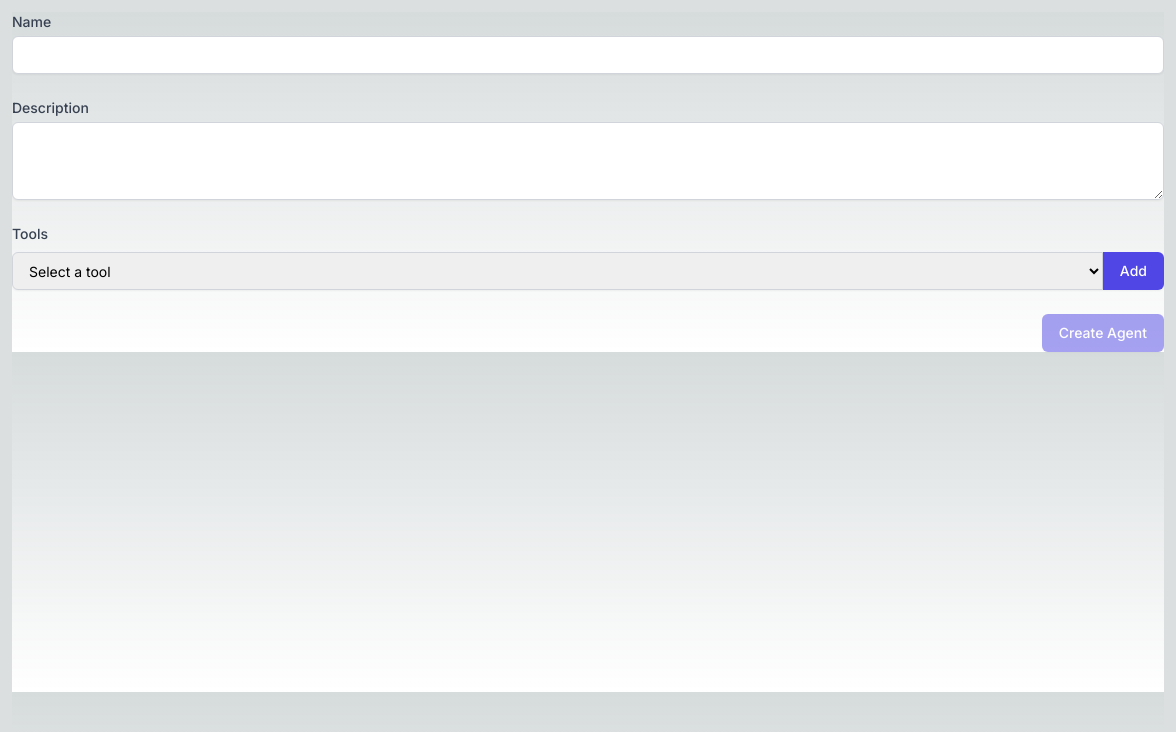
AgentForm › disables submit button when form is invalid
This screenshot has width=1176, height=732.
Expected: the button "Create Agent" is disabled, [1042,314,1164,352]
Type "Test Agent" into the field labelled "Name".
click(588, 55); type("Test Agent")  # box [12,36,1164,74]
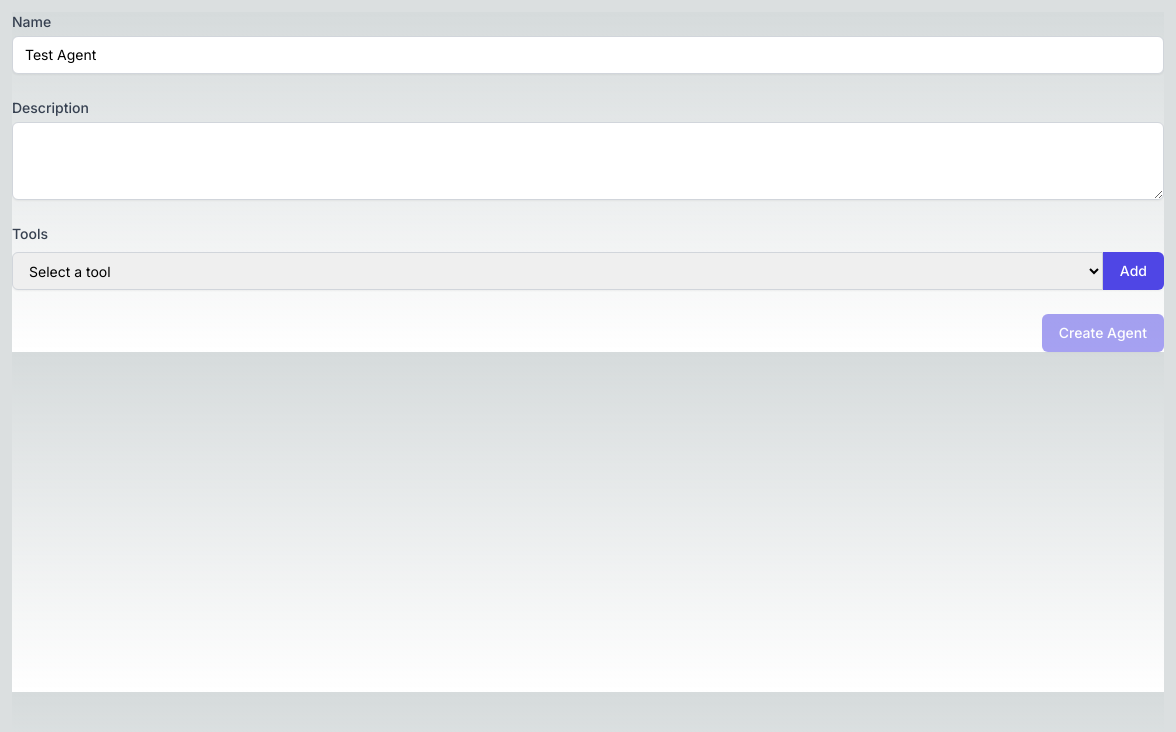
Type "A test agent for testing" into the text box labelled "Description".
click(588, 161); type("A test agent for testing")  # box [12,122,1164,200]
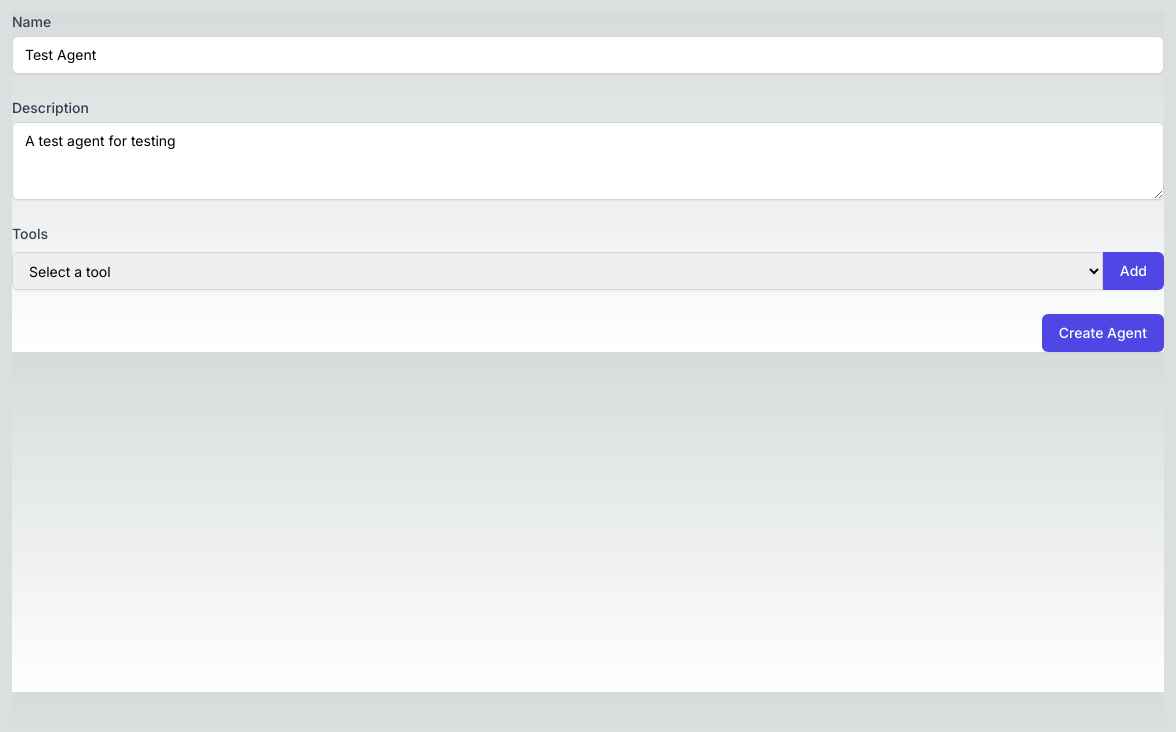
Now the button "Create Agent" is enabled, box [1042,314,1164,352]
